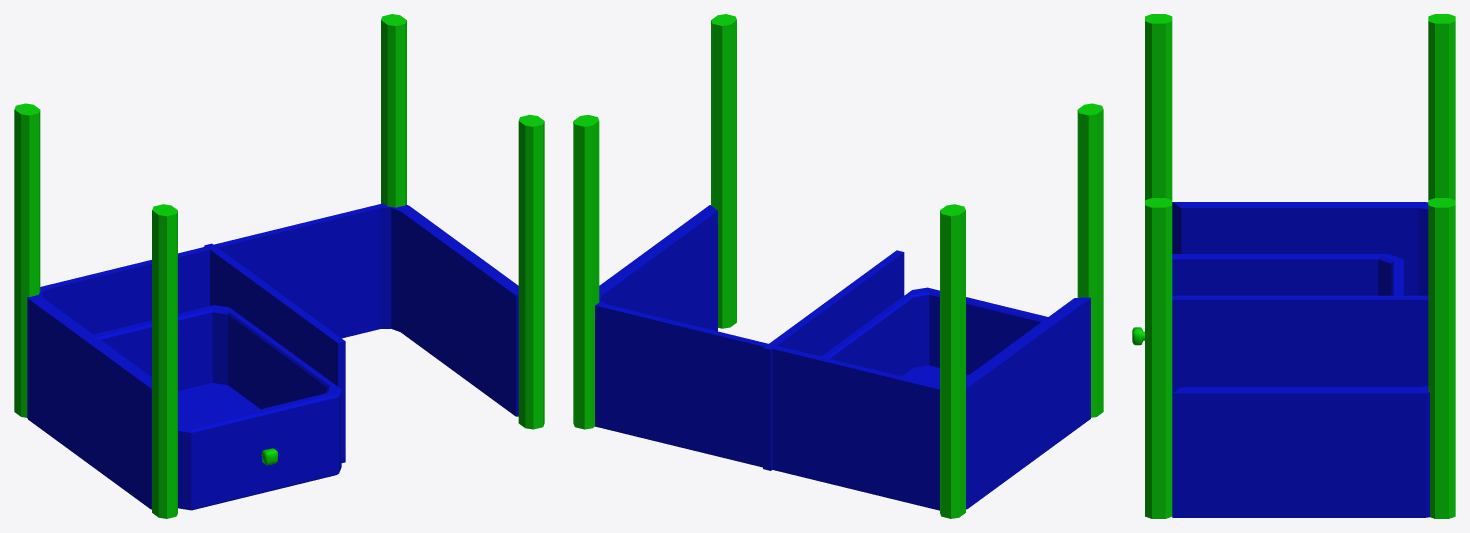
The model's file is Bed_Frame.fbx.
The picture shows the model from 3 angles, left to right: view 1: azimuth 30°, elevation 25°; view 2: azimuth 150°, elevation 25°; view 3: azimuth 270°, elevation 25°; orthographic projection. The views are drawn at different scales.
Visible parts, largest first — view 1: Cube.019; view 2: Cube.019; view 3: Cube.019.
Part boxes in pixels (<box>): Cube.019: <box>14,14,544,518</box>; Cube.019: <box>573,14,1103,518</box>; Cube.019: <box>1132,14,1455,518</box>.
Bounding box in the file's own units: 200 × 150 × 141.
